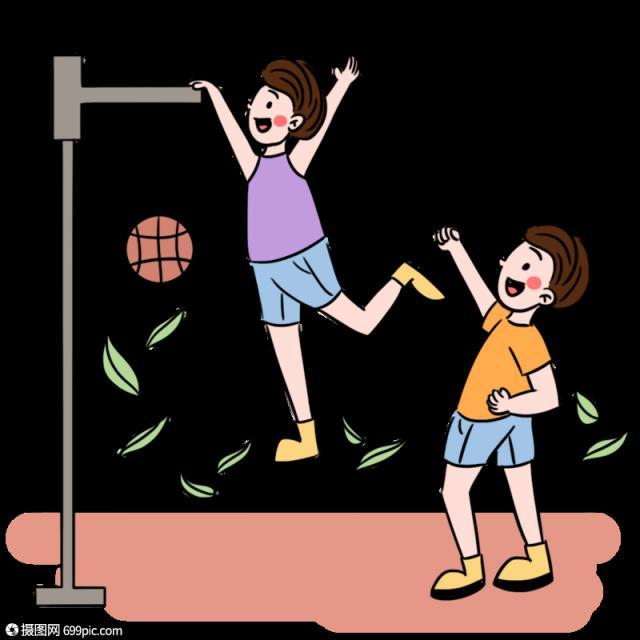rim: (120, 216, 200, 286)
